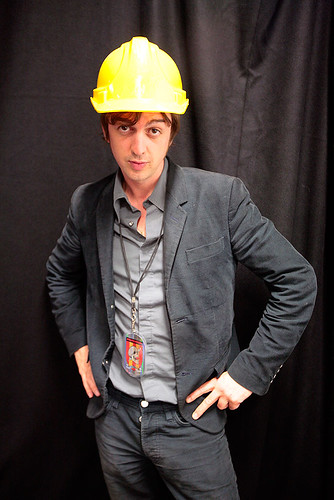person hardhat: (35, 38, 316, 500)
